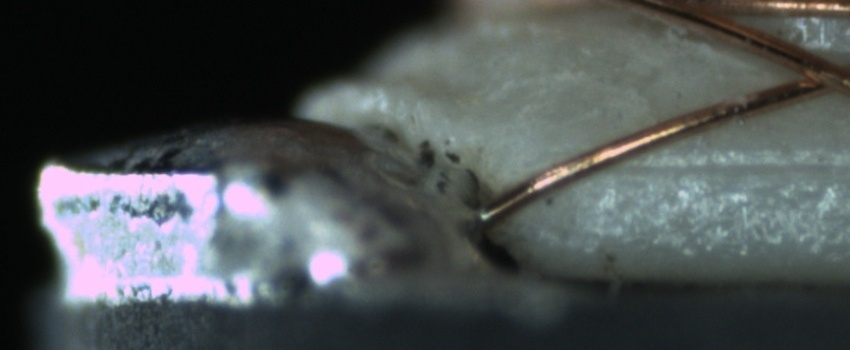CL: (773, 47, 847, 101)
DL: (579, 136, 843, 198)
